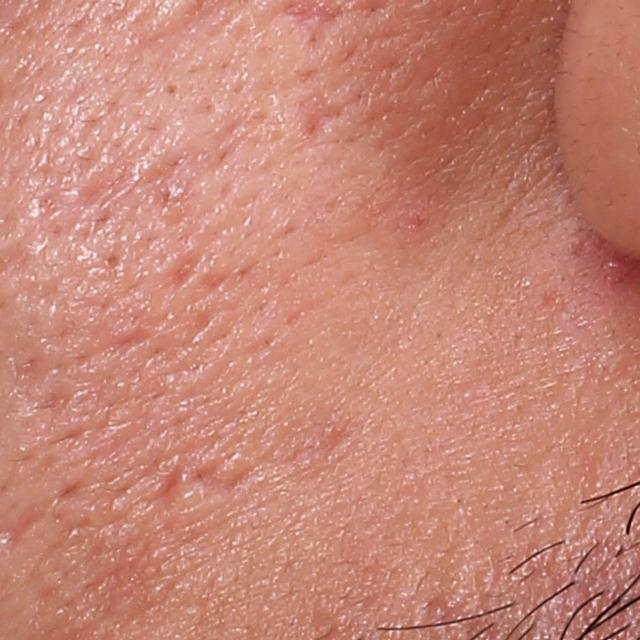atrophic_scar: (150, 456, 258, 522), (142, 151, 195, 220), (82, 330, 159, 357), (301, 95, 344, 140), (170, 249, 201, 285)
comedo: (164, 81, 181, 99)
